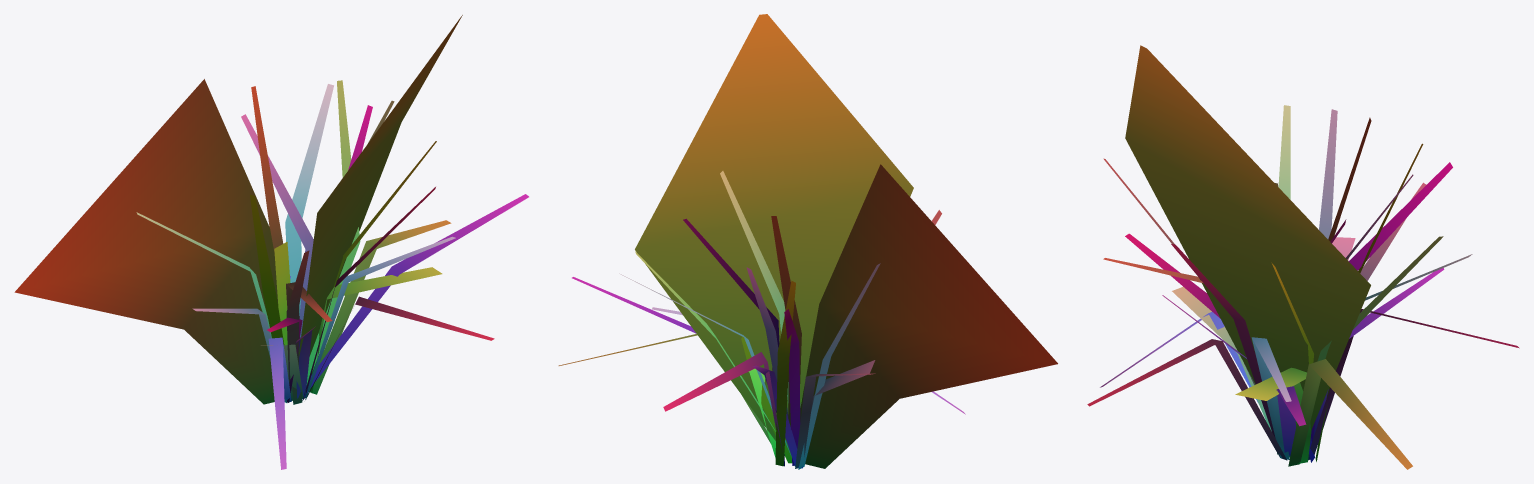
The model's file is Wild_Grass_sjliZ_Mid_sjliZ_VarD_LOD1.fbx.
3 renders of one model, left to right at view 1: azimuth 30°, elevation 25°; view 2: azimuth 150°, elevation 25°; view 3: azimuth 270°, elevation 25°, orthographic. The views are drawn at different scales.
Parts seen in each view (by area): view 1: _774f_VarD_LOD2; view 2: _774f_VarD_LOD2; view 3: _774f_VarD_LOD2.
Part boxes in pixels (box(x1,y1,x2,y2)): _774f_VarD_LOD2: box(14, 15, 528, 469); _774f_VarD_LOD2: box(558, 14, 1057, 469); _774f_VarD_LOD2: box(1087, 45, 1519, 469).
Bounding box in the file's own units: 86.14 × 64.58 × 54.27.
